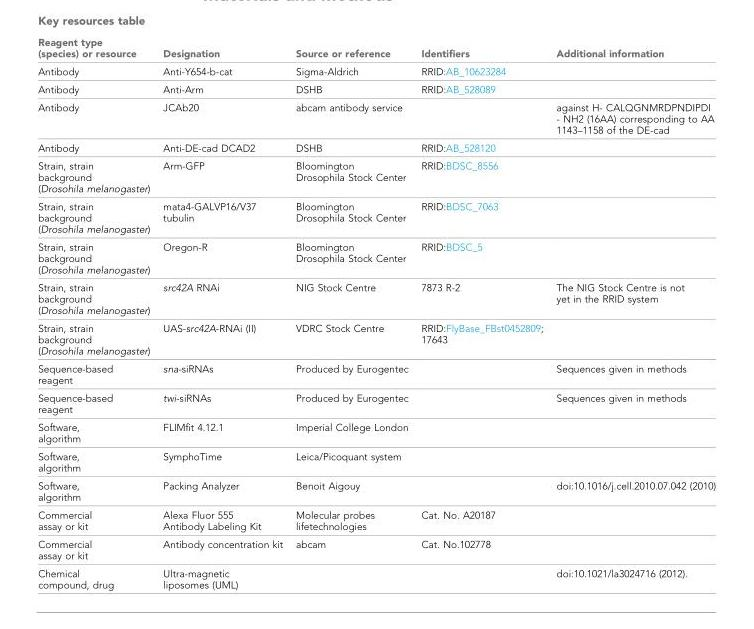table: (37, 37, 715, 589)
table column: (549, 37, 715, 589), (414, 37, 549, 589), (155, 37, 288, 589), (288, 37, 414, 589), (37, 37, 155, 589)
table column header: (37, 37, 715, 62)
table row: (37, 98, 715, 139), (37, 197, 715, 238), (37, 278, 715, 319), (37, 157, 715, 197), (37, 238, 715, 278), (37, 319, 715, 359), (37, 359, 715, 389), (37, 476, 715, 506), (37, 389, 715, 418), (37, 418, 715, 447), (37, 447, 715, 476), (37, 506, 715, 535), (37, 535, 715, 564), (37, 37, 715, 62), (37, 564, 715, 589), (37, 62, 715, 80), (37, 80, 715, 98), (37, 139, 715, 157)
